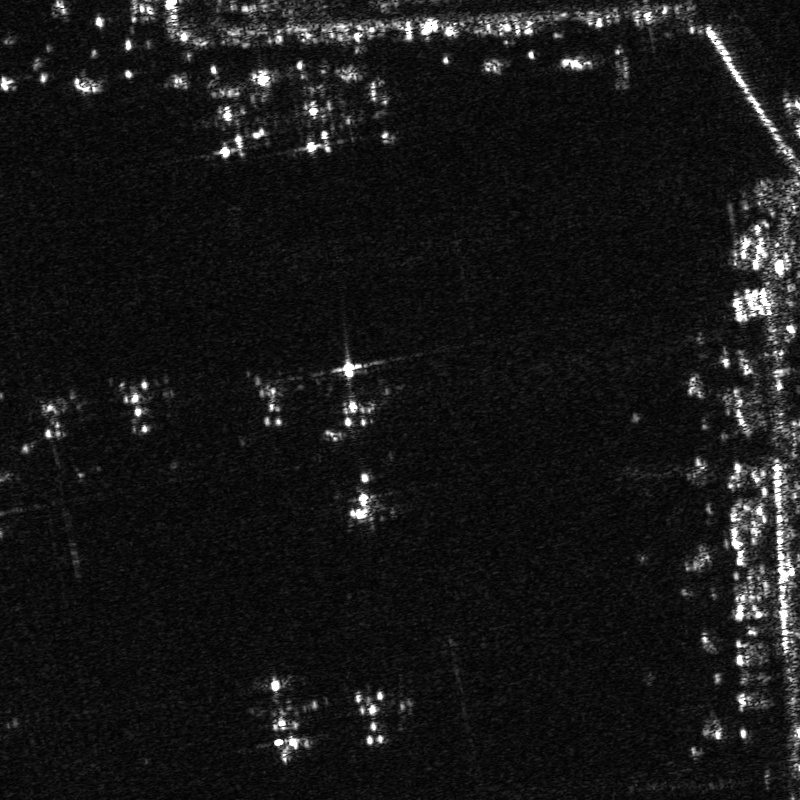A220: (342, 679, 402, 753)
ARJ21: (340, 465, 393, 536), (357, 63, 400, 145)
Boeing737: (192, 76, 280, 162)
other: (239, 667, 336, 768), (318, 344, 395, 450), (289, 72, 355, 155), (15, 387, 92, 457), (117, 378, 165, 447), (247, 374, 295, 440)
